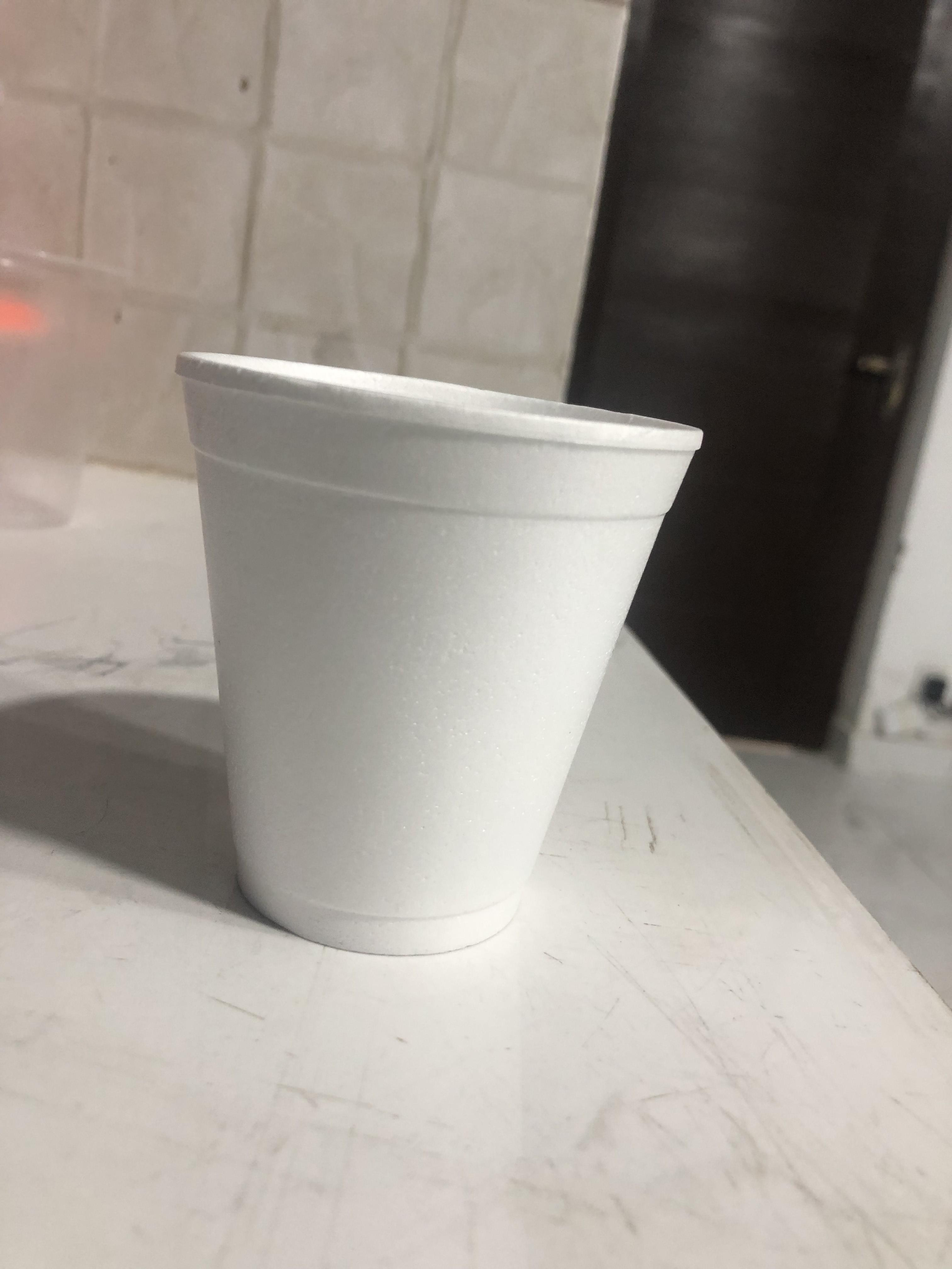cup-disposable: (168, 346, 708, 962)
